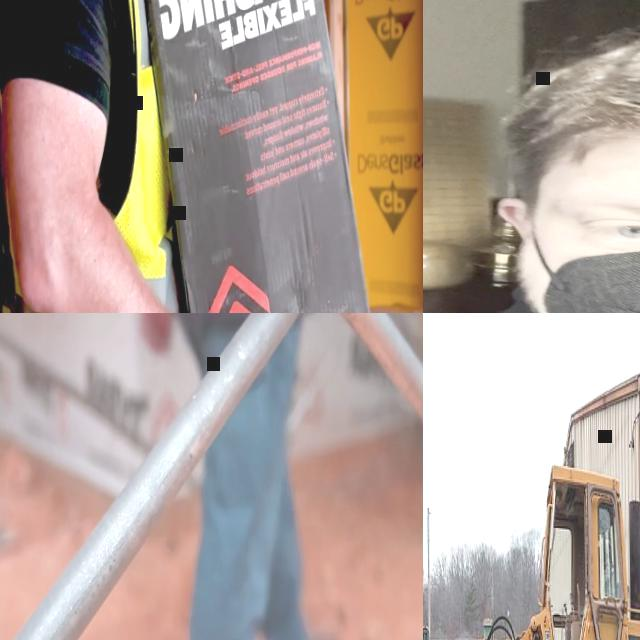machinery: (423, 460, 640, 640)
no_helmet: (515, 15, 640, 182)
person: (131, 313, 413, 640), (0, 0, 278, 313), (423, 15, 640, 313)
vest: (0, 0, 185, 313)
